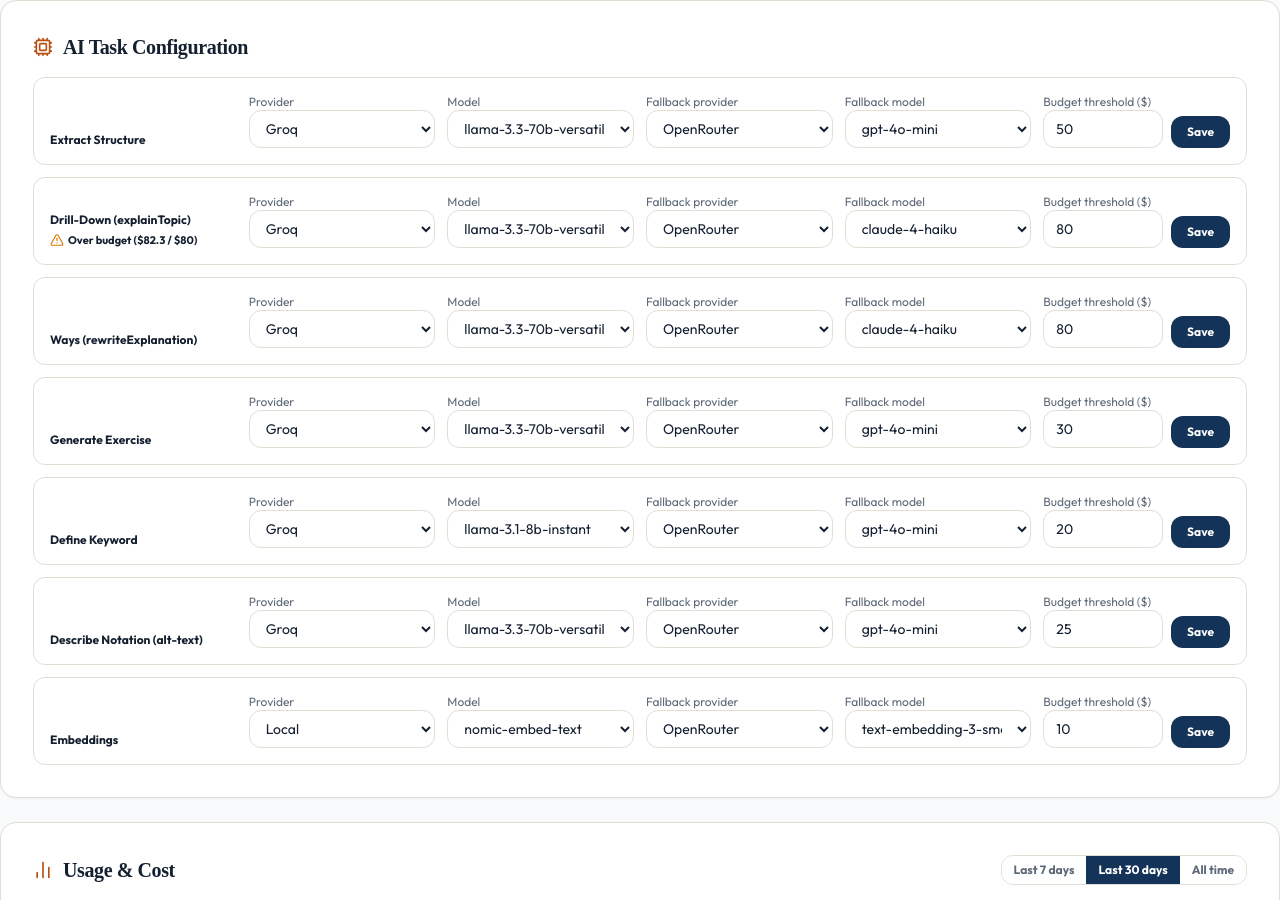
Test case: AiConfiguration › reverts "Saved!" back to "Save" as soon as the admin edits the row again
This screenshot has width=1280, height=900.
Click the 5th button "Save": x=1200, y=532 [1171,516,1230,548]
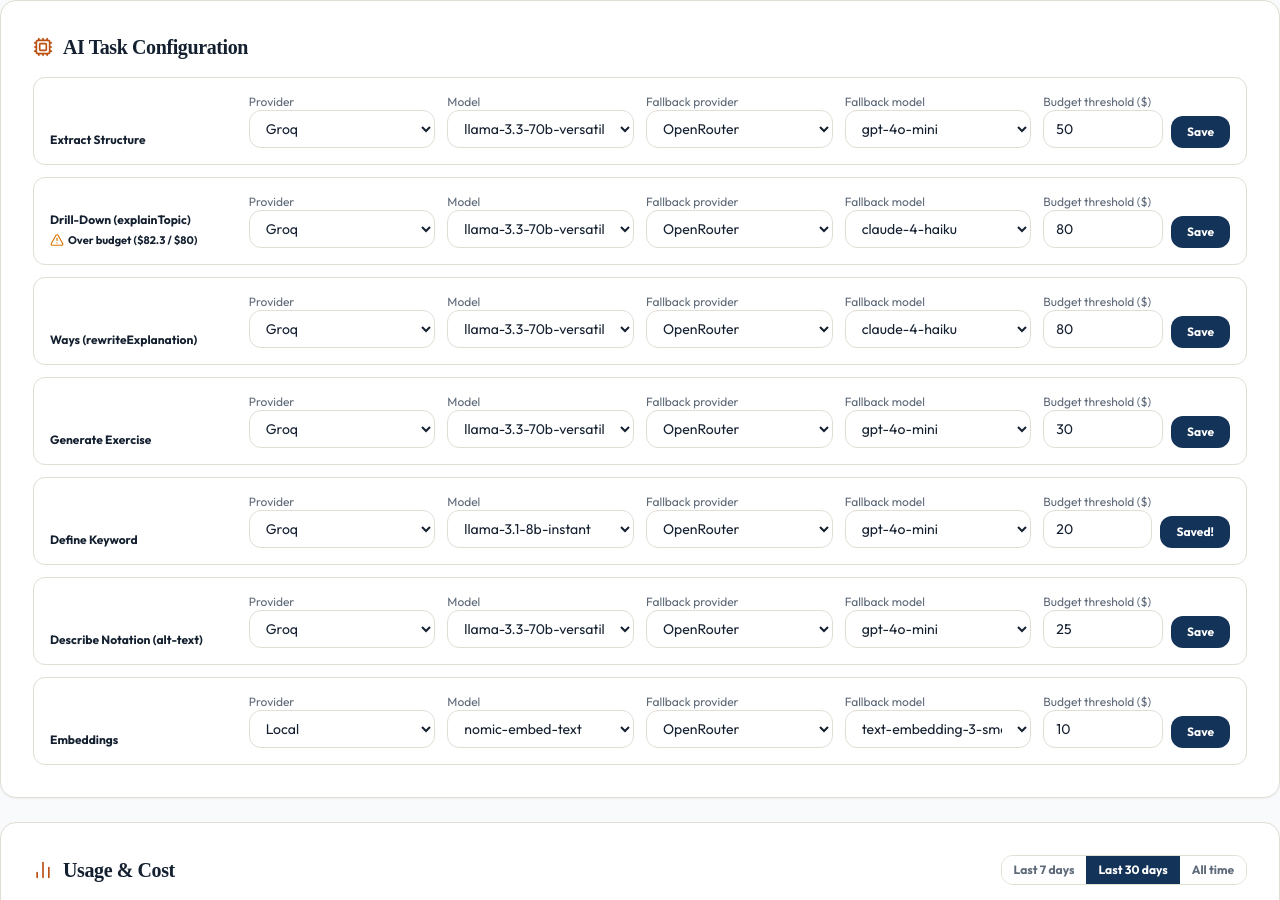
Expected: the button "Saved!" is shown, [1160,516,1230,548]
Select "OpenRouter" in the 5th dropdown labelled "Provider": x=342, y=529 [249,510,435,548]
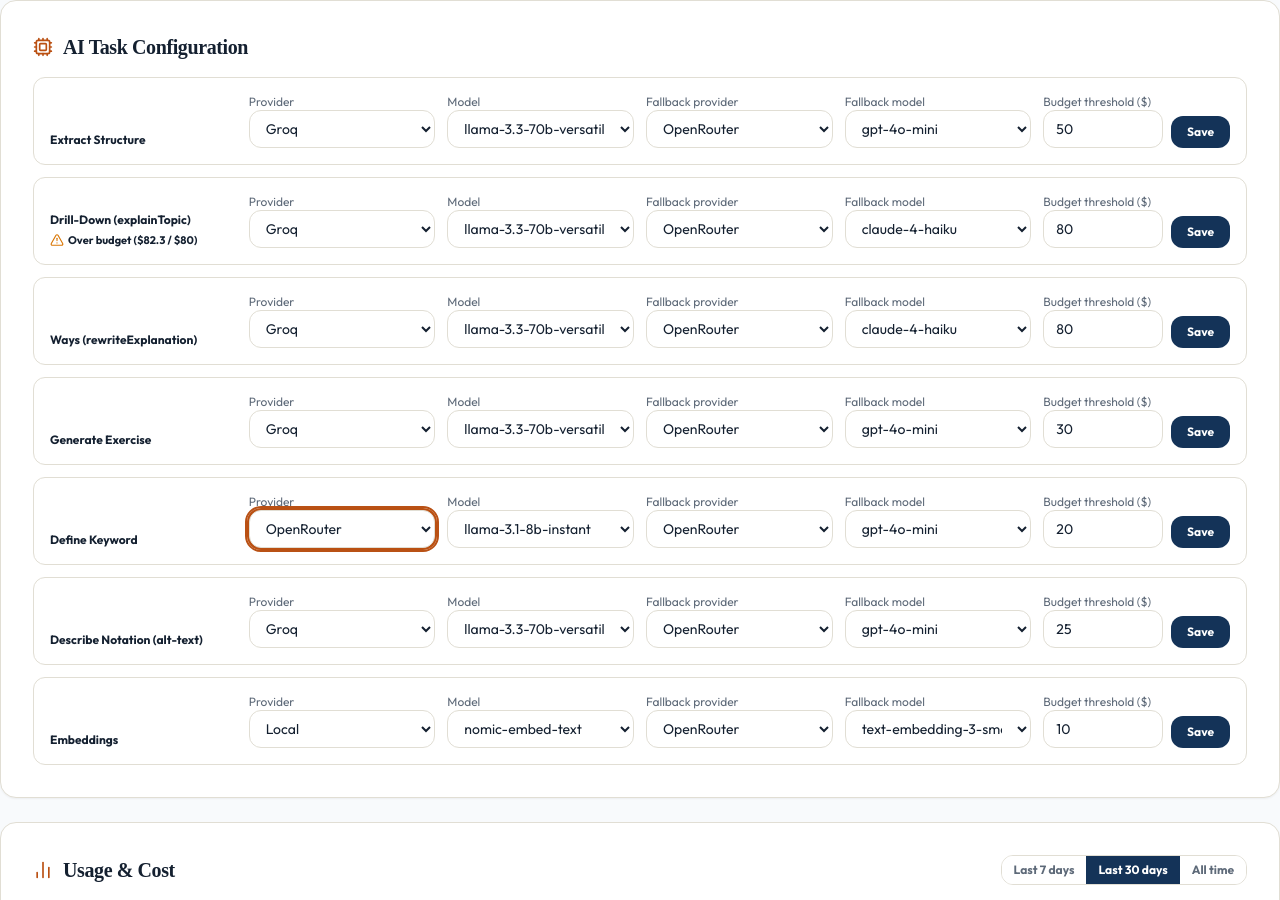
Expected: the 5th button "Save" is shown, [1171,516,1230,548]
